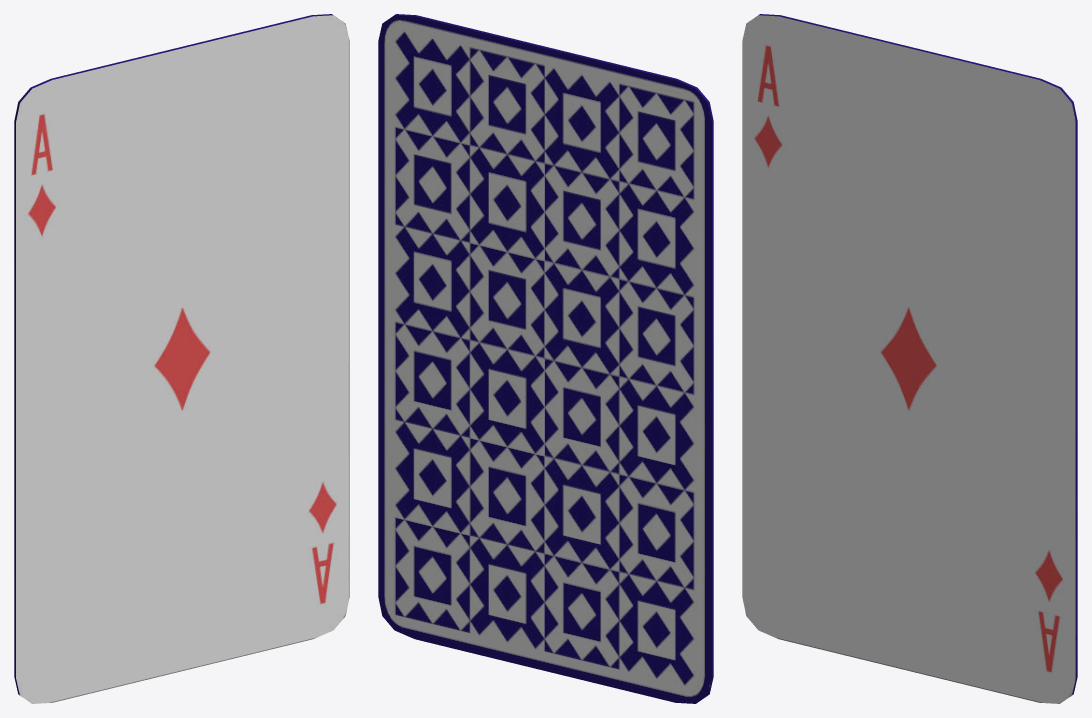
3 views of the same model, side by side, from view 1: azimuth 30°, elevation 25°; view 2: azimuth 150°, elevation 25°; view 3: azimuth 330°, elevation 25° (orthographic).
Parts seen in each view (by area): view 1: Ace of Diamonds; view 2: Ace of Diamonds; view 3: Ace of Diamonds.
Boxes of the visible parts, x1,y1,x2,y2 form: Ace of Diamonds: (14,14,349,703); Ace of Diamonds: (378,14,713,703); Ace of Diamonds: (742,14,1077,703).
Size of the model in its own units: 1.43 by 2.54 by 0.0125.
3 materials, 3 textured.
